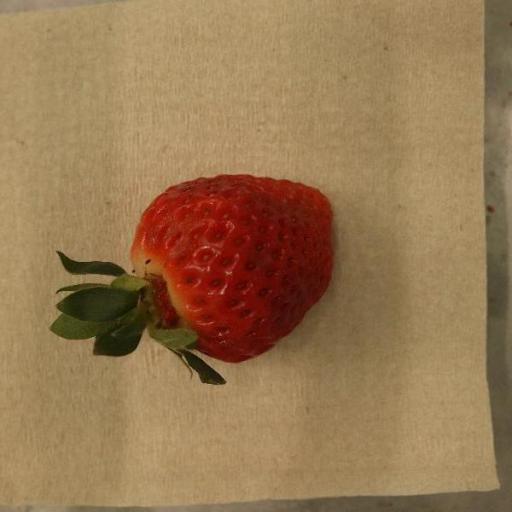Strawberry: (49, 175, 333, 386)
